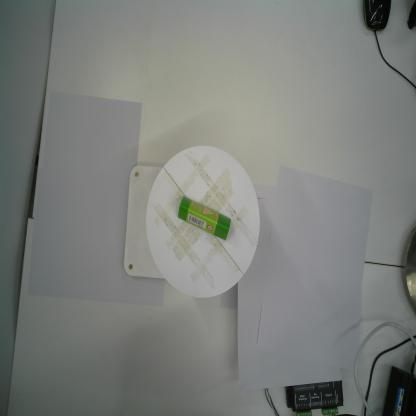Stationery: (177, 195, 232, 242)
